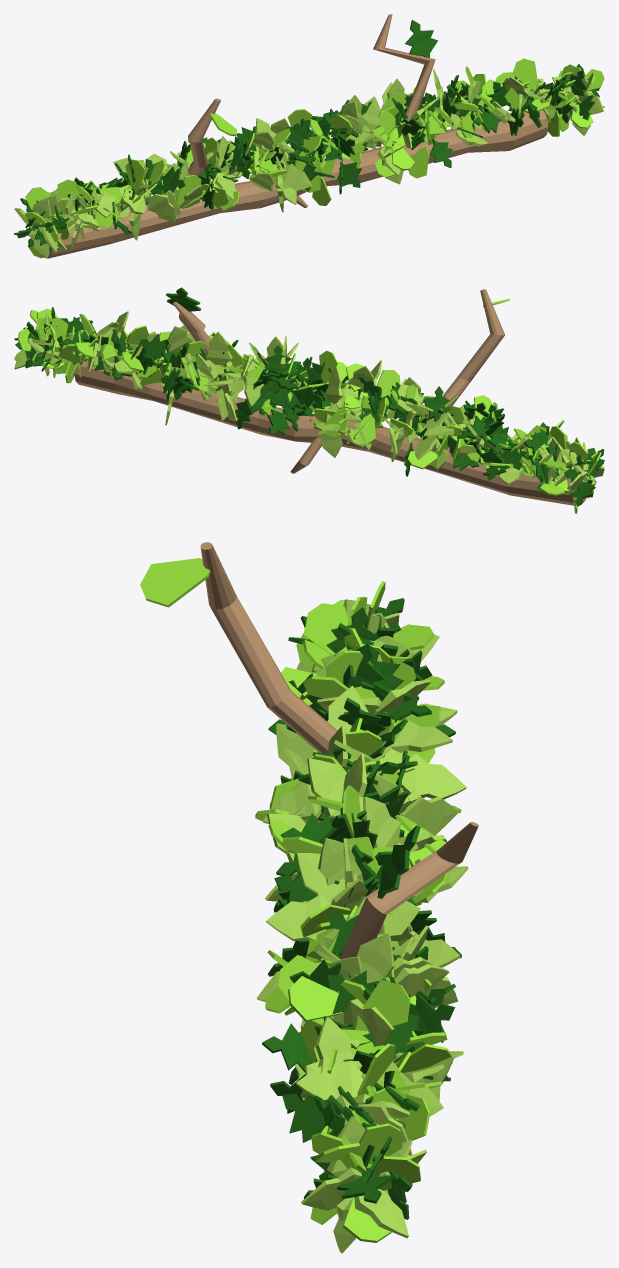
Rendered from Tree_Branch_V3_(LowPoly).fbx.
3 renders of one model, top to bottom at view 1: azimuth 30°, elevation 25°; view 2: azimuth 150°, elevation 25°; view 3: azimuth 270°, elevation 25°, orthographic. The views are drawn at different scales.
Visible parts, largest first — view 1: Tree_Branch_V3; view 2: Tree_Branch_V3; view 3: Tree_Branch_V3.
Part boxes in pixels (x1,y1,x2,y2): Tree_Branch_V3: [14, 14, 604, 258]; Tree_Branch_V3: [14, 287, 604, 513]; Tree_Branch_V3: [140, 542, 478, 1253].
Size of the model in its own units: 21420 by 6295 by 5394.
